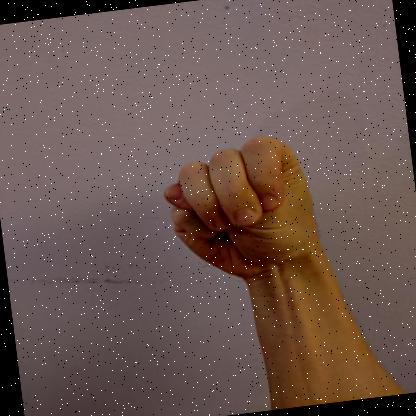M: (163, 136, 334, 286)
